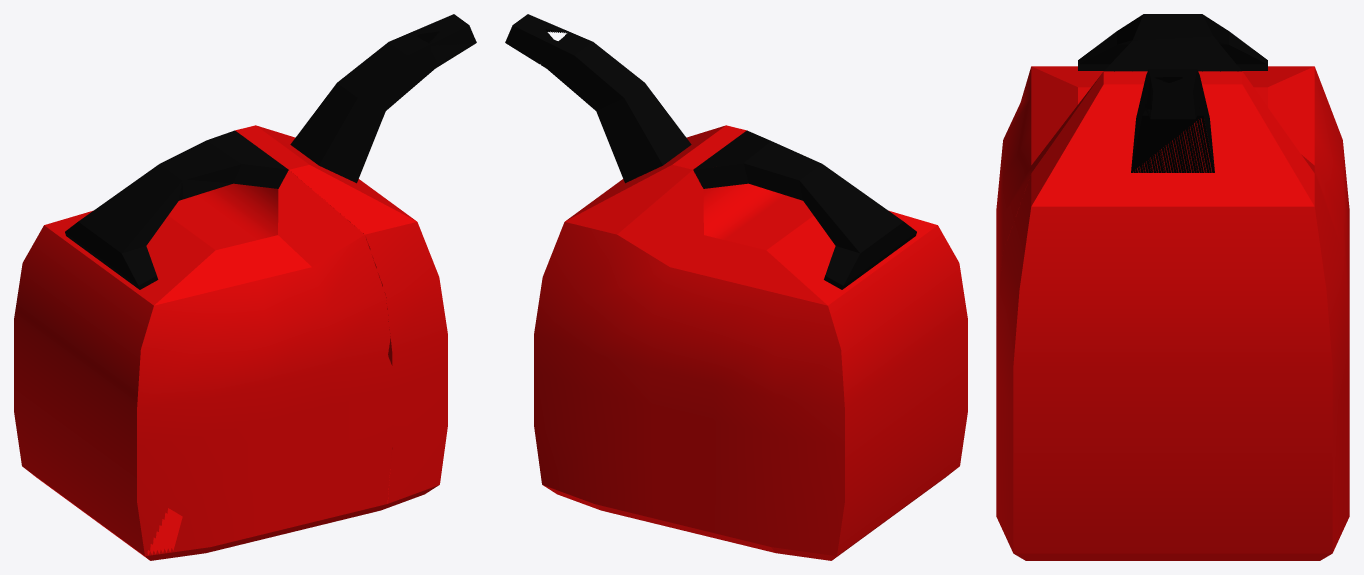
Rendered from Gas Canister Textured.fbx.
The picture shows the model from 3 angles, left to right: view 1: azimuth 30°, elevation 25°; view 2: azimuth 150°, elevation 25°; view 3: azimuth 270°, elevation 25°; orthographic projection. The views are drawn at different scales.
Parts seen in each view (by area): view 1: Box001; view 2: Box001; view 3: Box001.
Boxes of the visible parts, x1=… form: Box001: x1=14, y1=14, x2=476, y2=560; Box001: x1=505, y1=14, x2=967, y2=560; Box001: x1=996, y1=14, x2=1349, y2=560.
Size of the model in its own units: 3.5 by 3.49 by 2.12.
Materials: 1 (1 with a texture image).
